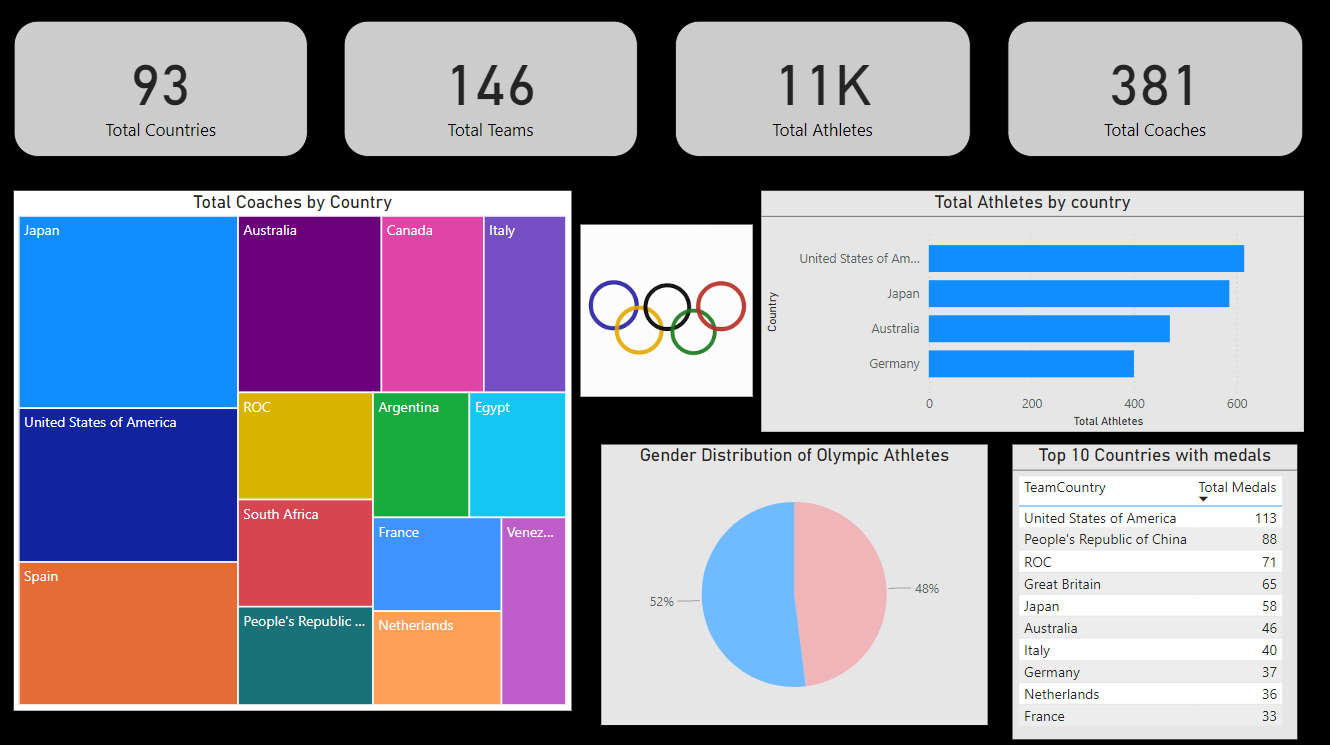

Layout of this report page (visuals, bound fields, positions):
{"tool":"powerbi","page":{"name":"Page 1","canvas":[1280,720],"ordinal":0},"visuals":[{"type":"tableEx","title":"Top 10 Countries with medals","fields":{"Values":["medals.TeamCountry","Sum(medals.Total)"]},"box":[969.6,431.5,270.9,280.4],"z":0},{"type":"card","fields":{"Values":["CountNonNull(medals.TeamCountry)"]},"box":[17.3,27.4,279.9,129.8],"z":1},{"type":"image","box":[548.9,216.9,181,173.8],"z":2},{"type":"card","fields":{"Values":["Count(teams.TeamName)"]},"box":[331.8,27.4,279.9,129.8],"z":3},{"type":"card","fields":{"Values":["Sum(entriesgender.Total)"]},"box":[647.8,27.4,281.3,129.8],"z":4},{"type":"card","fields":{"Values":["Count(coaches.Name)"]},"box":[963.8,27.4,281.3,129.8],"z":5},{"type":"pieChart","title":"Gender Distribution of Olympic Athletes","fields":{"Y":["Sum(entriesgender.Female)","Sum(entriesgender.Male)"]},"box":[577.1,431.4,367.9,266.9],"z":6},{"type":"treemap","fields":{"Group":["coaches.Country"],"Values":["Count(coaches.Name)"]},"box":[17.3,189,530.9,494.9],"z":7},{"type":"barChart","title":"Total Athletes by country","fields":{"Category":["athletes.Country"],"Y":["CountNonNull(athletes.PersonName)"]},"box":[729.8,189.3,516.7,229.8],"z":8}]}

Visuals, with their boxes in screenshot pixels (x1, y1, x2, y2), scaled from the page's 1280x720 canvas onto the 1330x745 screenshot:
"Top 10 Countries with medals" tableEx: (1007, 446, 1289, 737)
card - CountNonNull(medals.TeamCountry): (18, 28, 309, 163)
image: (570, 224, 758, 404)
card - Count(teams.TeamName): (345, 28, 636, 163)
card - Sum(entriesgender.Total): (673, 28, 965, 163)
card - Count(coaches.Name): (1001, 28, 1294, 163)
"Gender Distribution of Olympic Athletes" pieChart: (600, 446, 982, 723)
treemap - coaches.Country x Count(coaches.Name): (18, 196, 570, 708)
"Total Athletes by country" barChart: (758, 196, 1295, 434)
